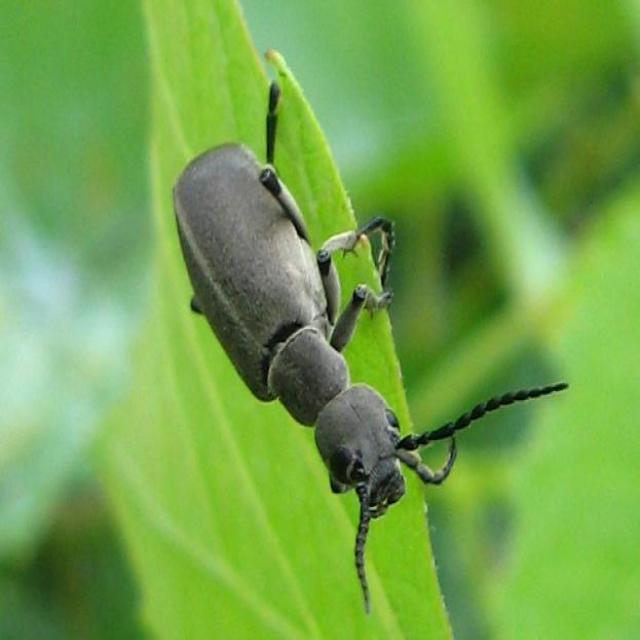BlisterBeetle-Adult-: (166, 76, 571, 618)
